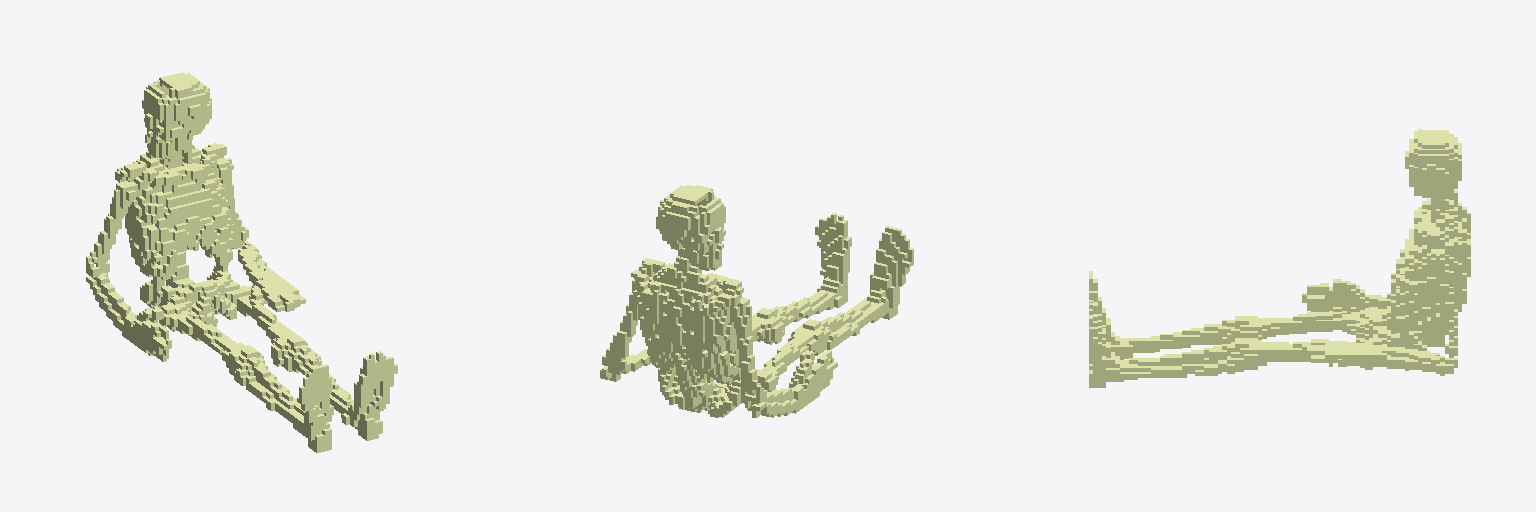
The picture shows the model from 3 angles: view 1: azimuth 30°, elevation 25°; view 2: azimuth 150°, elevation 25°; view 3: azimuth 270°, elevation 25°; orthographic projection.
Bounding box in the file's own units: 42 × 59 × 86.
1 materials, 1 textured.